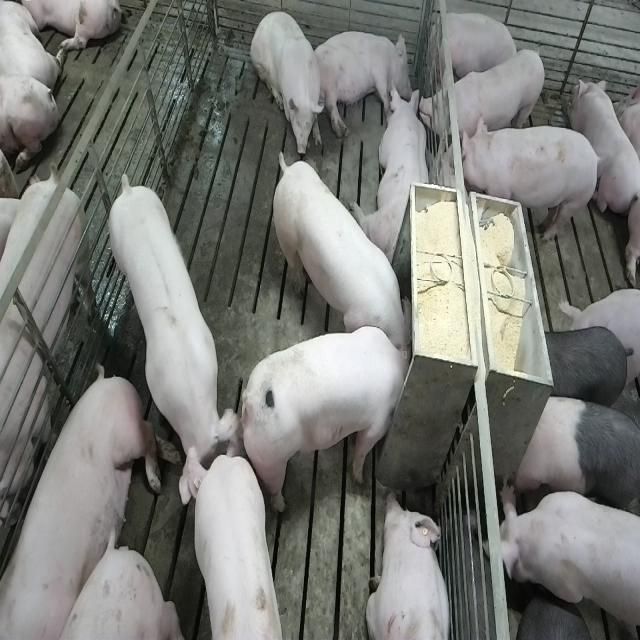Feeding: (246, 325, 420, 514), (268, 143, 410, 355)
Lateral_lying: (310, 29, 413, 140)
Sitting: (251, 8, 326, 158)
Standing: (104, 162, 237, 498), (0, 172, 99, 553), (498, 482, 638, 640), (184, 454, 288, 640), (461, 121, 604, 252), (513, 393, 638, 522), (535, 324, 635, 412)
Sternal_lying: (356, 85, 432, 267), (366, 490, 454, 640), (572, 75, 638, 220)
